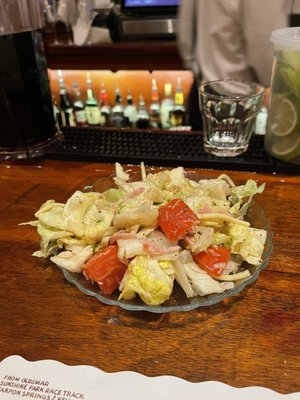pizza: (198, 80, 266, 158)
